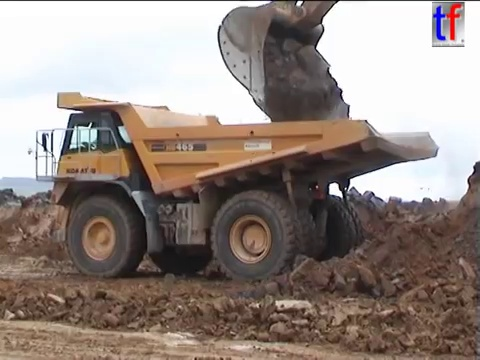excavator: (213, 1, 346, 116)
truck: (25, 88, 442, 284)
